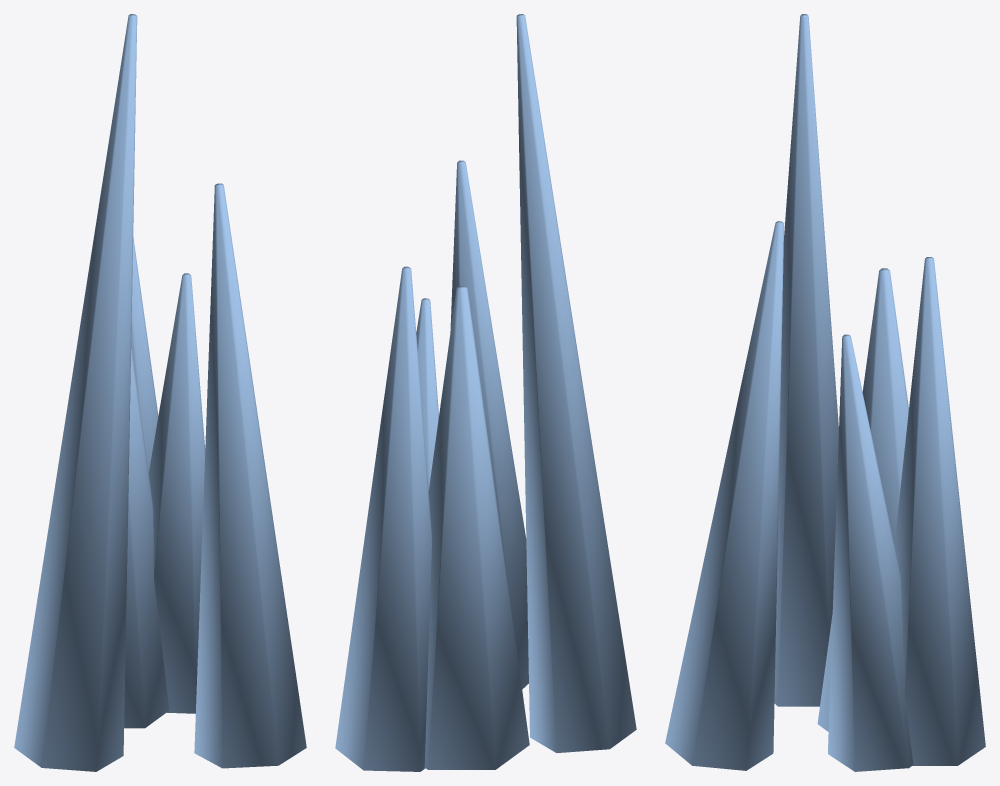
The model's file is resource_crystal_0.glb.
3 views of the same model, side by side, from view 1: azimuth 30°, elevation 25°; view 2: azimuth 150°, elevation 25°; view 3: azimuth 270°, elevation 25° (orthographic). The views are drawn at different scales.
Parts seen in each view (by area): view 1: resource_crystal_0; view 2: resource_crystal_0; view 3: resource_crystal_0.
Part boxes in pixels (x1,y1,x2,y2): resource_crystal_0: [14, 14, 306, 771]; resource_crystal_0: [335, 14, 636, 771]; resource_crystal_0: [665, 14, 985, 771].
Bounding box in the file's own units: 0.5989 × 1.87 × 0.7715.
